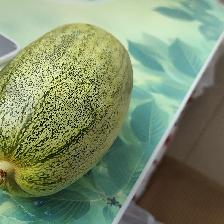gua: (19, 41, 101, 168)
